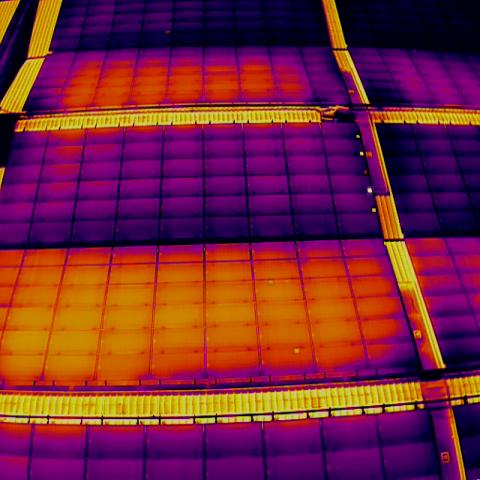fault: (370, 205, 378, 214), (292, 346, 300, 355), (162, 28, 170, 36), (354, 132, 362, 140), (361, 168, 369, 176), (268, 278, 276, 286), (367, 186, 374, 195), (358, 150, 365, 158)
